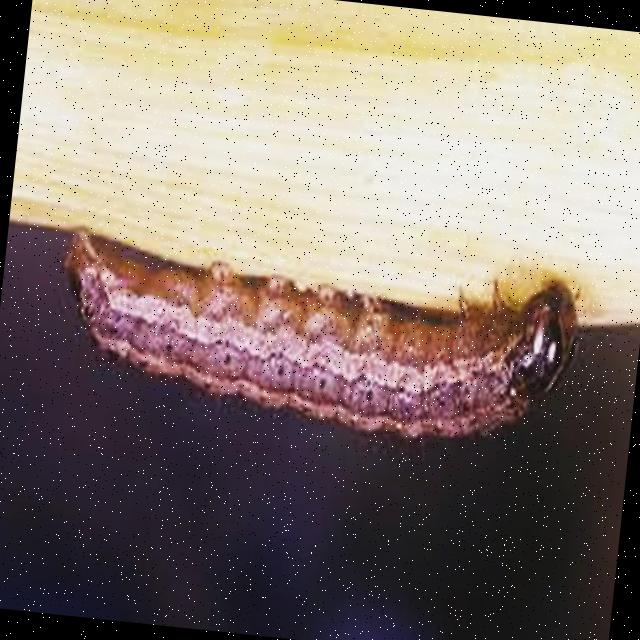worm: (47, 225, 589, 459)
